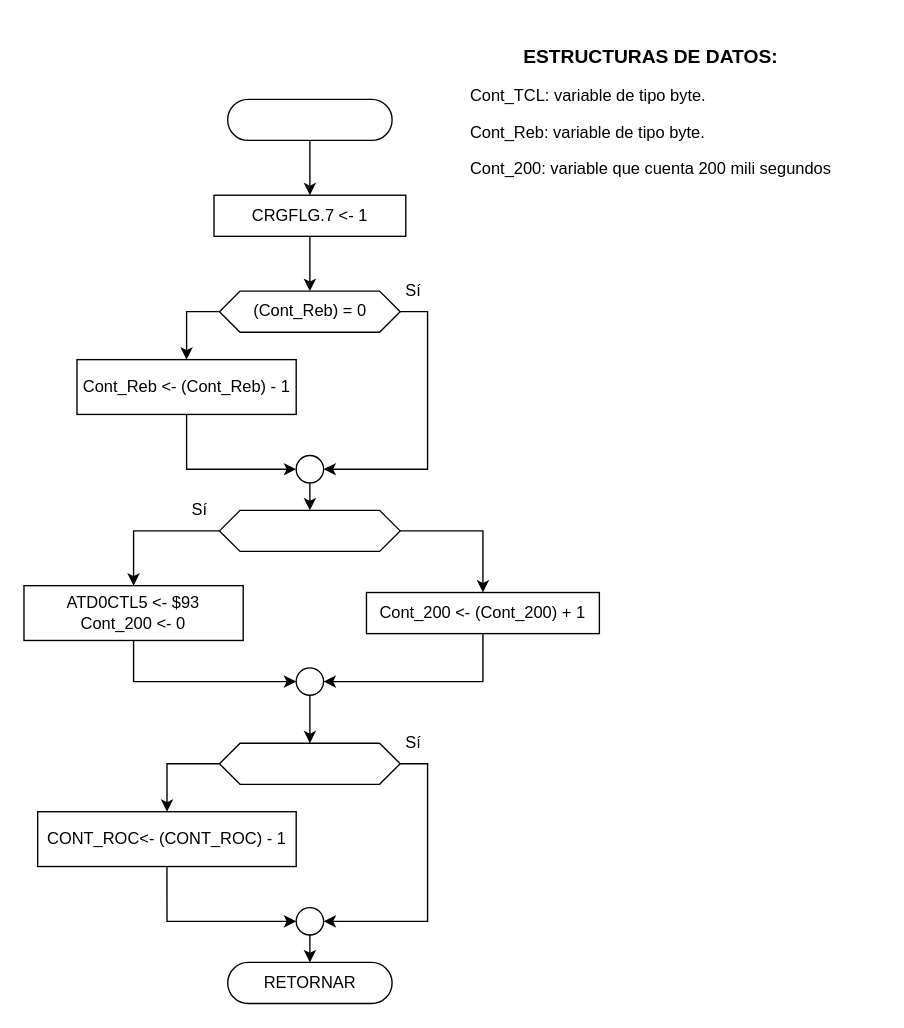
This 904x1028 diagram has some shape labels left out. The centre of each missing label's shape, as x and y in pixels:
(Cont_200) = 200: the point at 309,530
(CONT_ROC) = 0: the point at 309,763
RTI_ISR: the point at 309,119
